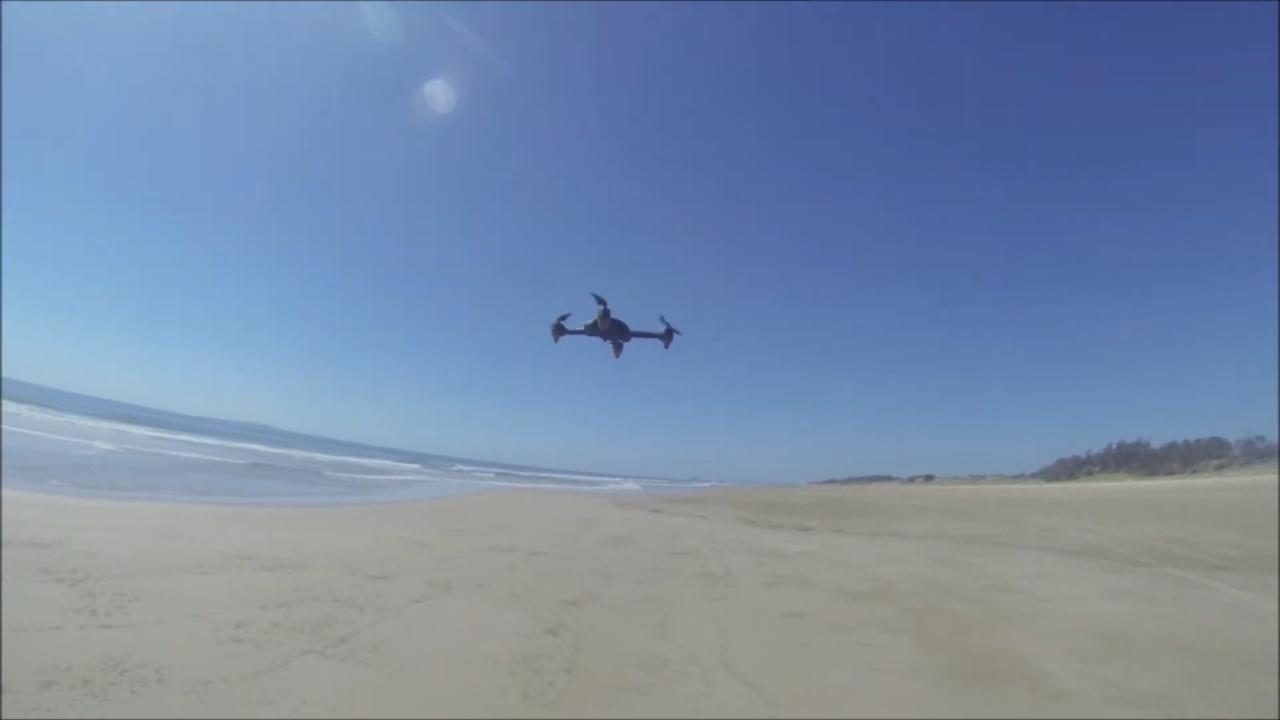Drone: (531, 283, 691, 369)
